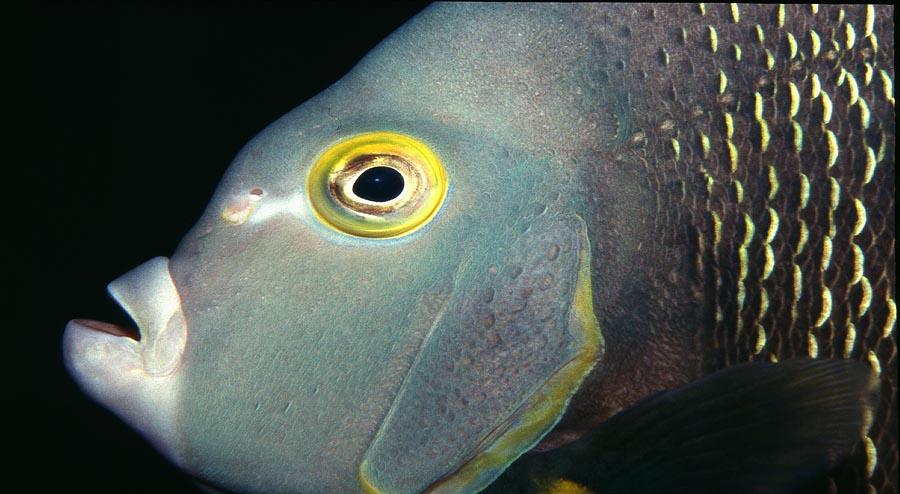Pomacanthus_paru: (30, 2, 900, 489)
